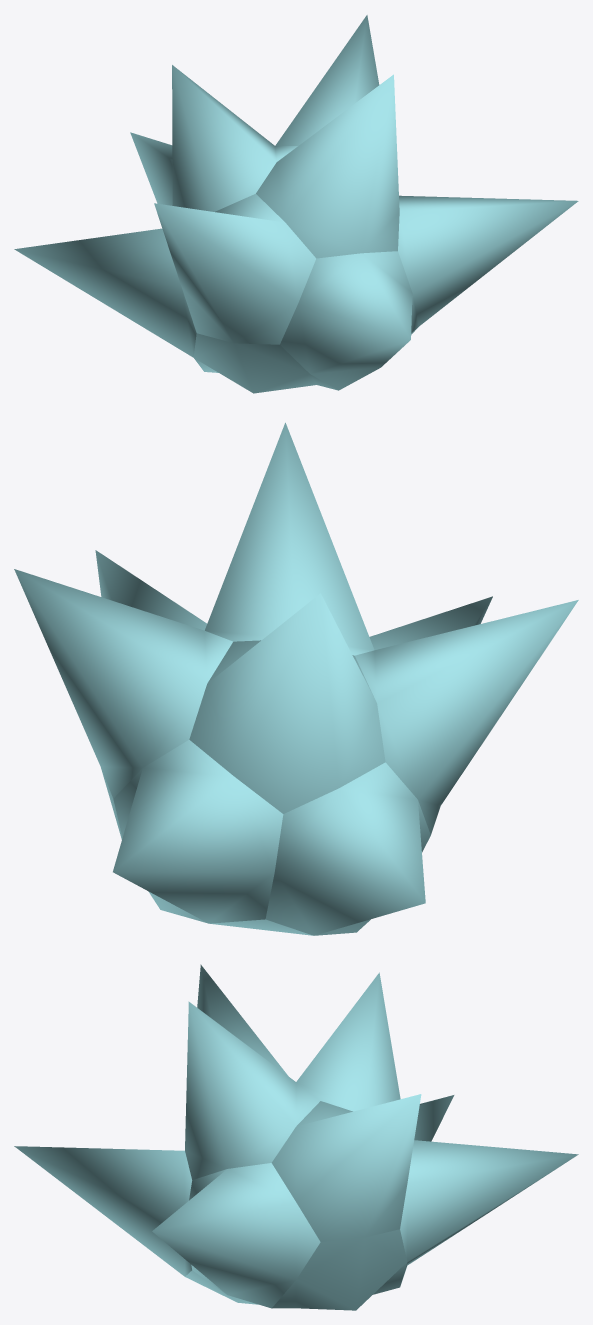
Rendered from FB_Icespikes_Prop.fbx.
3 views of the same model, one above another, from view 1: azimuth 30°, elevation 25°; view 2: azimuth 150°, elevation 25°; view 3: azimuth 270°, elevation 25° (orthographic). The views are drawn at different scales.
Parts seen in each view (by area): view 1: pPlatonic1; view 2: pPlatonic1; view 3: pPlatonic1.
Boxes of the visible parts, left/top/right/bottom form: pPlatonic1: left=14, top=15, right=578, bottom=393; pPlatonic1: left=14, top=422, right=578, bottom=935; pPlatonic1: left=14, top=964, right=578, bottom=1310.
Bounding box in the file's own units: 15.41 × 11.39 × 18.73.
